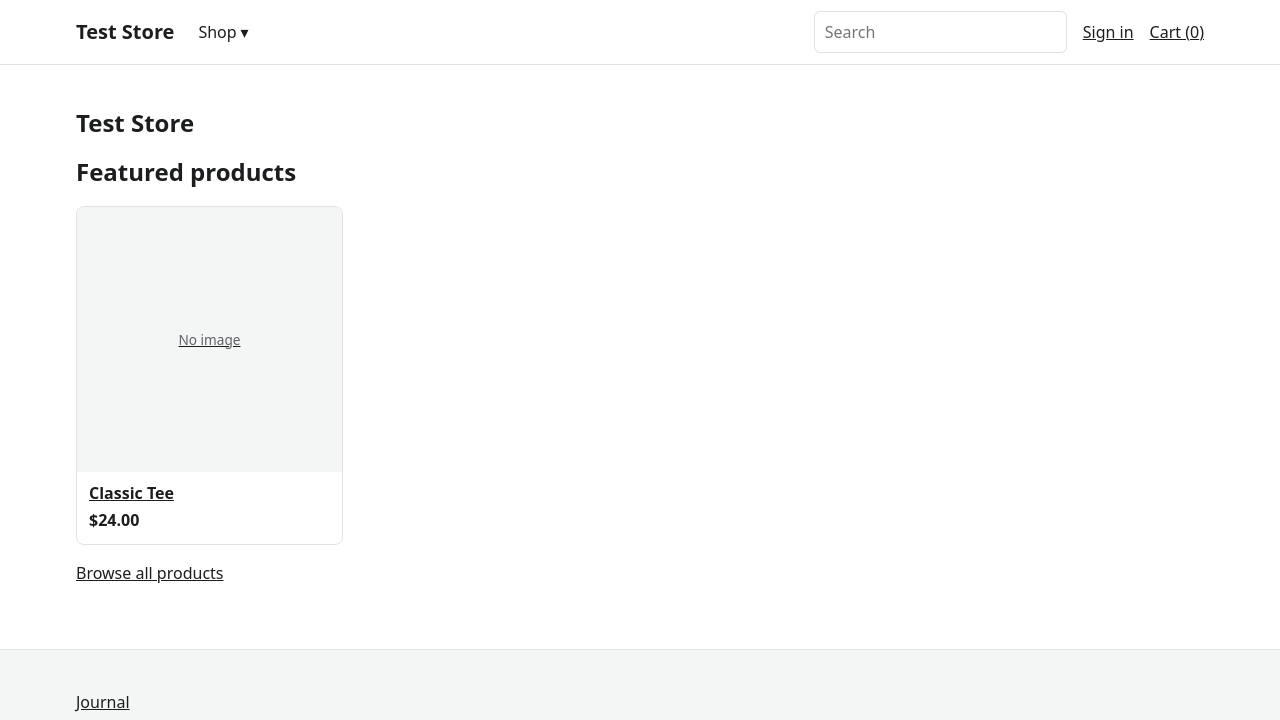
Test: Header navigation › shows the store name from settings and nested navigation from the API
Step 1. Click the button named "Shop submenu" → click(245, 32), box left=237, top=20, right=253, bottom=44
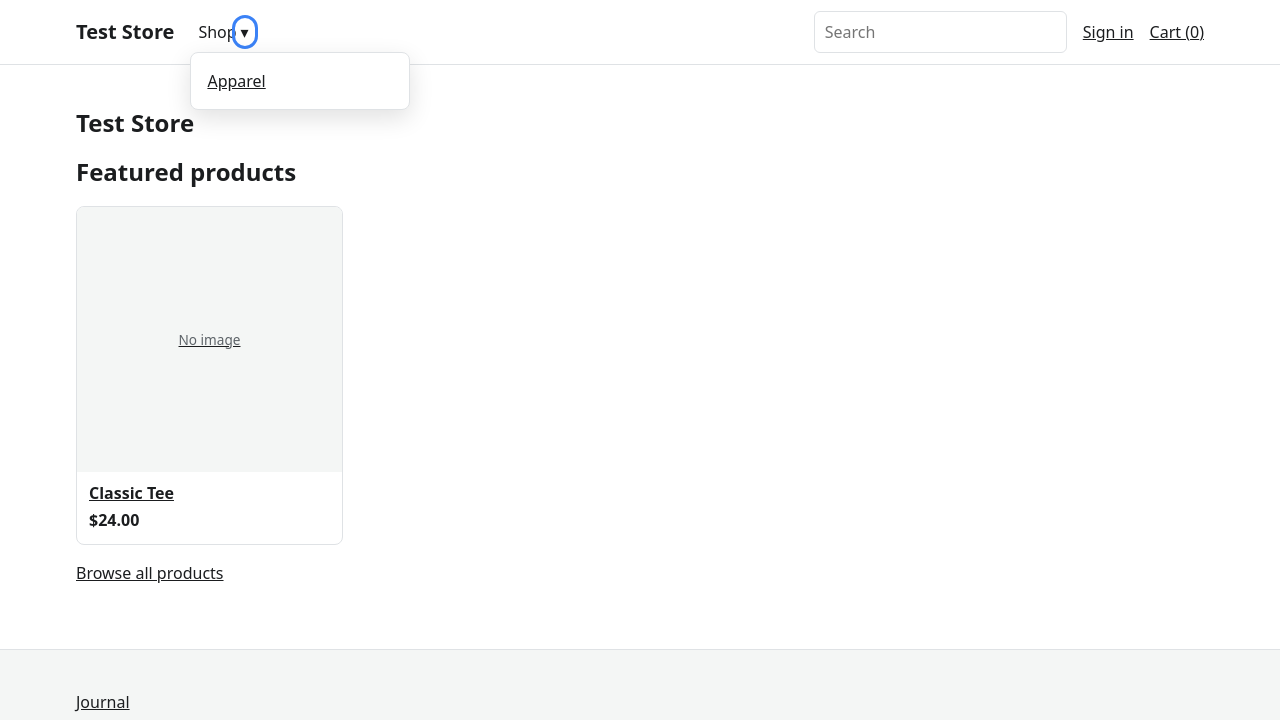
Now the button named "Shop submenu" is expanded, box left=237, top=20, right=253, bottom=44
